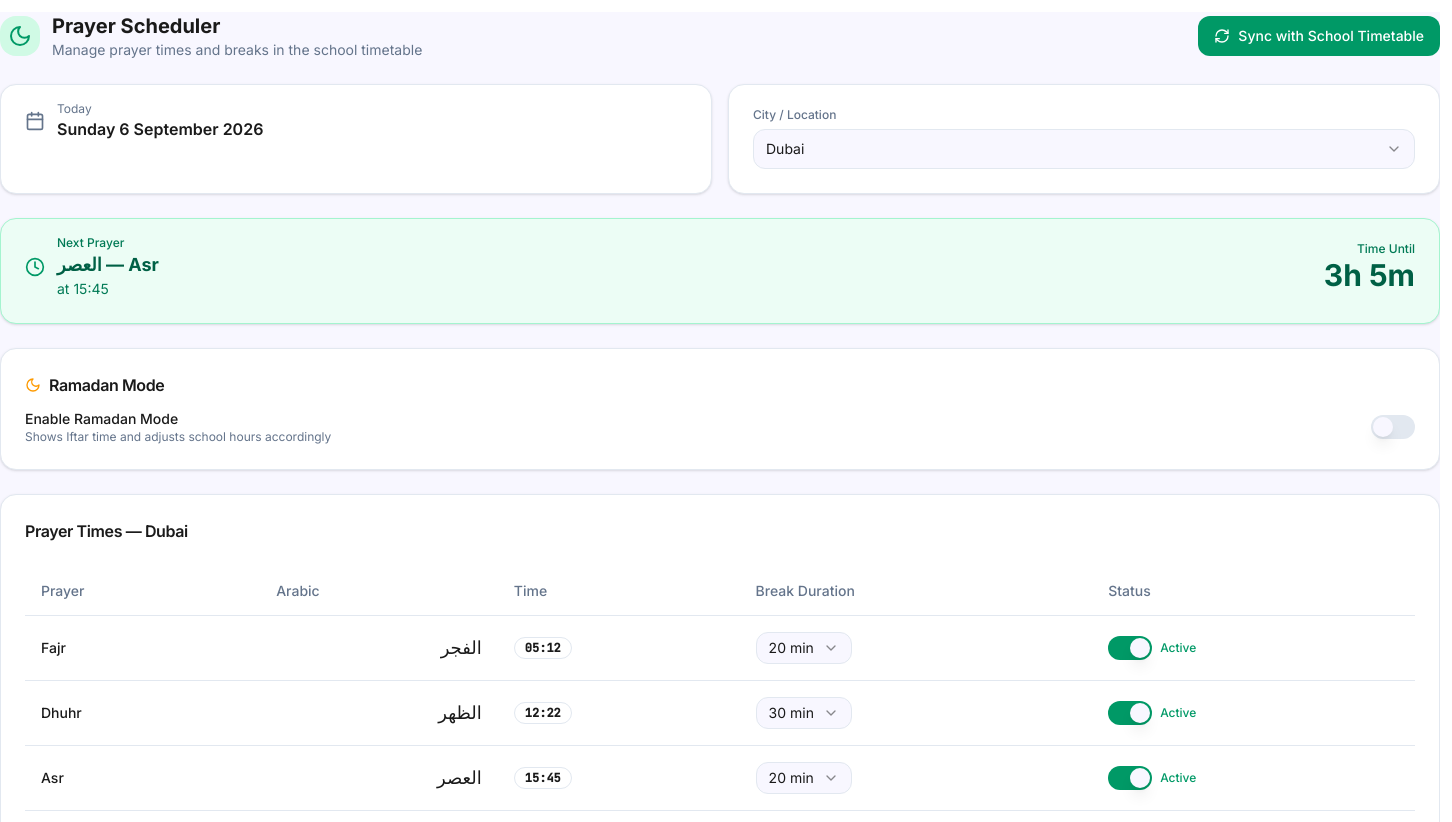
Test: PrayerScheduler › toggles a prayer's active state and label when its switch is clicked
The image size is (1452, 822).
Expected: the text "Active" in the row of "Fajr" is shown, [1160, 640, 1196, 654]
Click the switch in the row of "Fajr" at (1130, 648), box [1108, 636, 1152, 660]
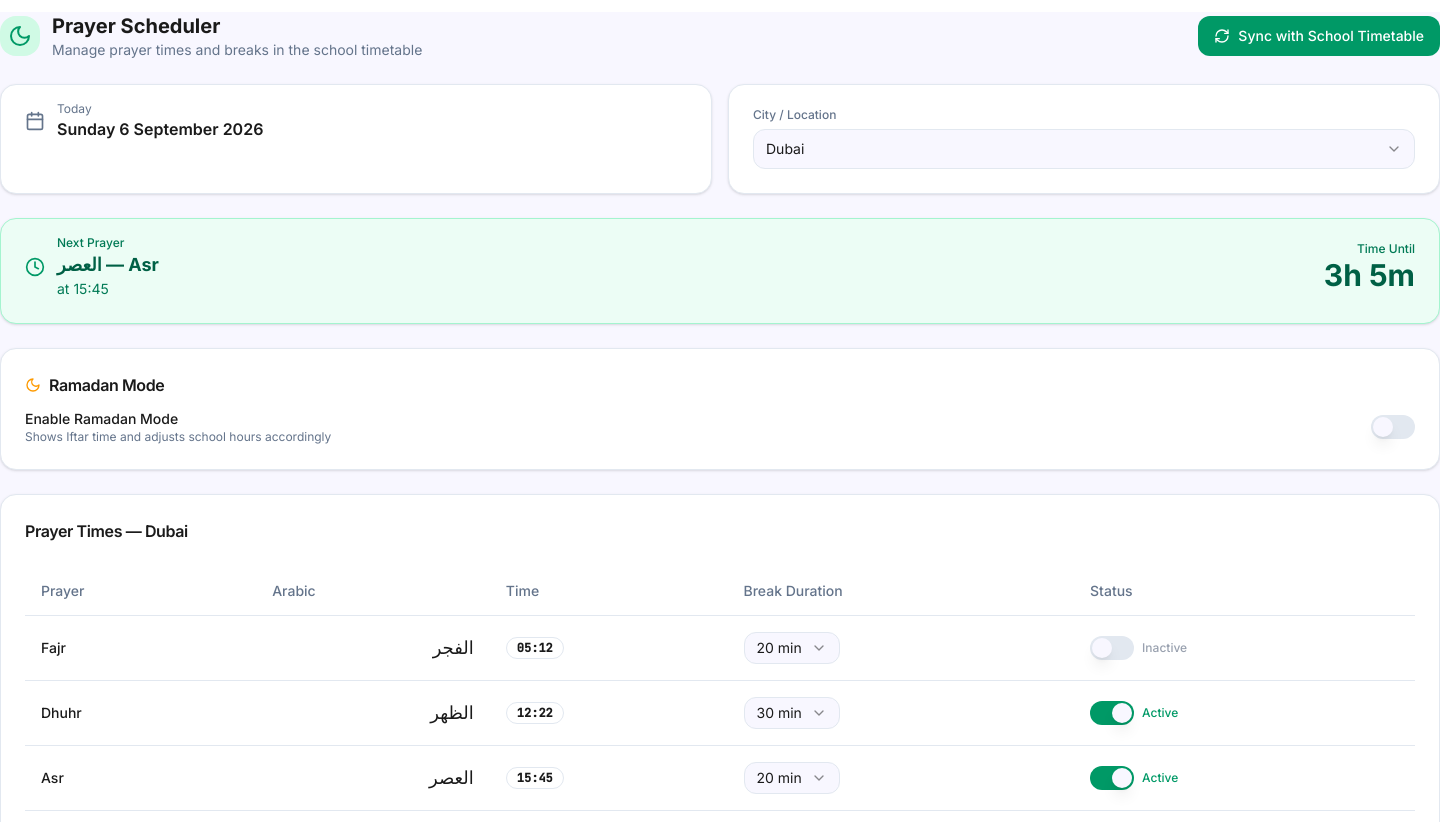
Expected: the text "Inactive" is shown, [1142, 640, 1187, 656]
